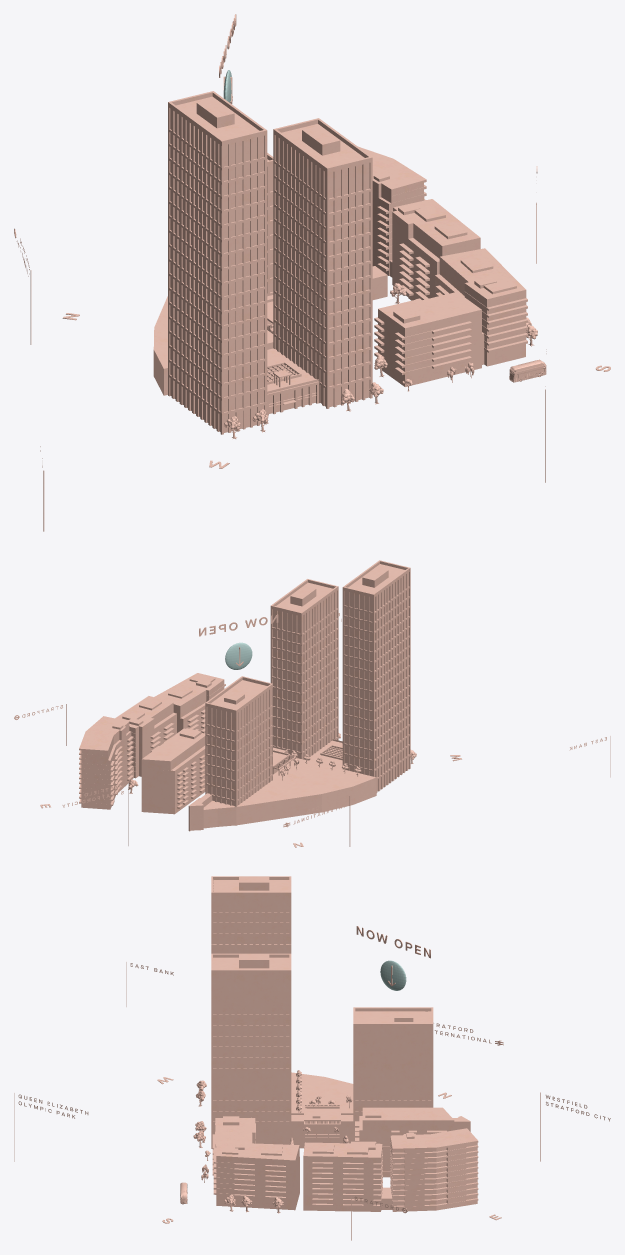
Rendered from CMS23.gltf.
3 renders of one model, top to bottom at view 1: azimuth 30°, elevation 25°; view 2: azimuth 150°, elevation 25°; view 3: azimuth 270°, elevation 25°, orthographic. The views are drawn at different scales.
Parts seen in each view (by area): view 1: Xavier, Bussell, Hows, Sandhu, Bulk, Harrison; view 2: Xavier, Bussell, Harrison, Bulk, Sandhu, Aarons, Hows, Arrow; view 3: Bussell, Sandhu, Harrison, Hows, Xavier, Bulk, Aarons, Arrow.
Boxes of the visible parts, left/top/right/bottom form: Xavier: left=168, top=91, right=267, bottom=434; Bussell: left=273, top=118, right=372, bottom=408; Hows: left=374, top=248, right=527, bottom=386; Sandhu: left=358, top=146, right=480, bottom=300; Bulk: left=30, top=202, right=610, bottom=531; Harrison: left=267, top=153, right=273, bottom=296; Xavier: left=342, top=560, right=410, bottom=792; Bussell: left=270, top=579, right=338, bottom=759; Harrison: left=188, top=676, right=272, bottom=831; Bulk: left=40, top=704, right=610, bottom=847; Sandhu: left=79, top=696, right=176, bottom=809; Aarons: left=141, top=728, right=205, bottom=814; Hows: left=154, top=673, right=225, bottom=733; Arrow: left=225, top=642, right=252, bottom=669; Bussell: left=211, top=953, right=291, bottom=1148; Sandhu: left=303, top=1128, right=478, bottom=1211; Harrison: left=353, top=1007, right=470, bottom=1141; Hows: left=212, top=1116, right=299, bottom=1210; Xavier: left=211, top=876, right=291, bottom=953; Bulk: left=14, top=962, right=540, bottom=1240; Aarons: left=355, top=1107, right=454, bottom=1177; Arrow: left=380, top=960, right=406, bottom=990.
Bounding box in the file's own units: 308 × 129 × 313.
Materials: 3 (2 with a texture image).
